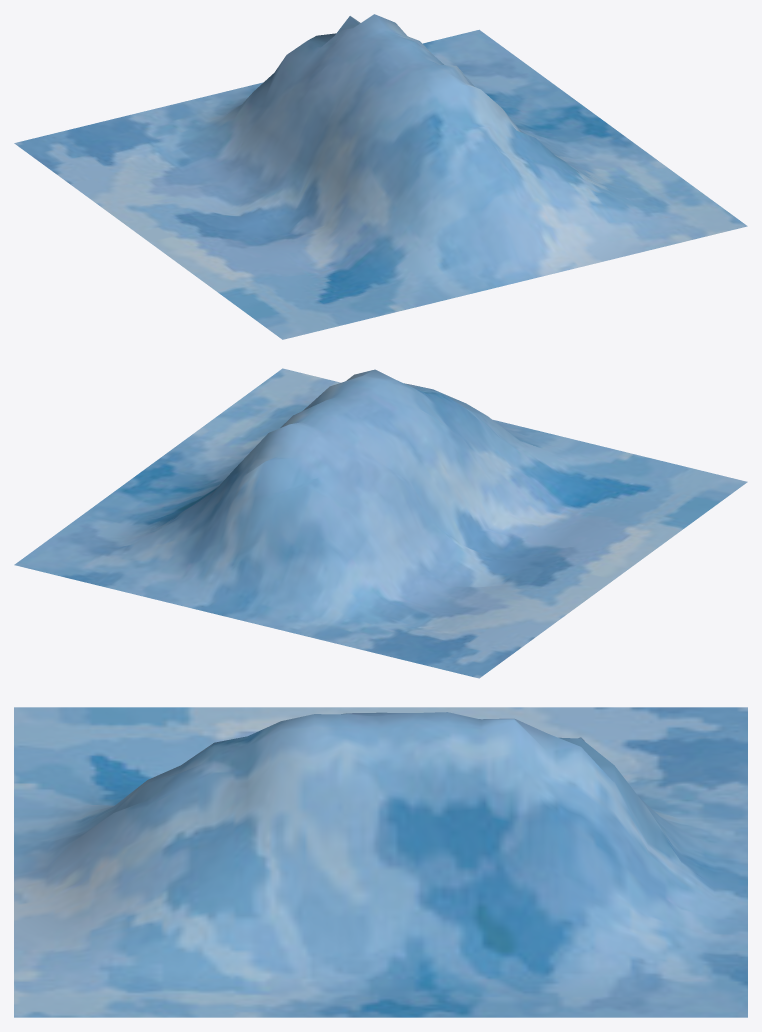
File: caveterrain4.fbx
3 renders of one model, top to bottom at view 1: azimuth 30°, elevation 25°; view 2: azimuth 150°, elevation 25°; view 3: azimuth 270°, elevation 25°, orthographic. The views are drawn at different scales.
Visible parts, largest first — view 1: Plane.005; view 2: Plane.005; view 3: Plane.005.
Part boxes in pixels (<box>): Plane.005: <box>14,14,747,339</box>; Plane.005: <box>14,368,747,678</box>; Plane.005: <box>14,707,747,1017</box>.
Size of the model in its own units: 3387 by 968 by 3387.
